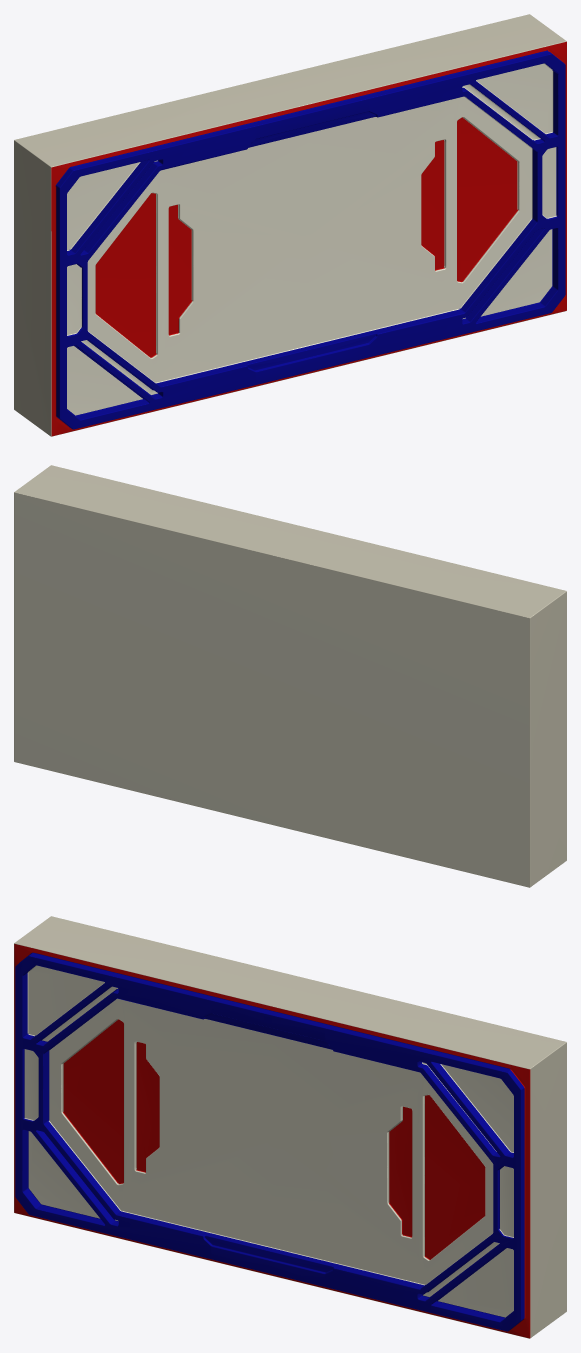
The model's file is Scifi2_WallE3.fbx.
3 renders of one model, top to bottom at view 1: azimuth 30°, elevation 25°; view 2: azimuth 150°, elevation 25°; view 3: azimuth 330°, elevation 25°, orthographic.
Visible parts, largest first — view 1: WallPanelE3; view 2: WallPanelE3; view 3: WallPanelE3.
Boxes of the visible parts, bbox=[...] form: WallPanelE3: bbox=[14, 14, 566, 436]; WallPanelE3: bbox=[14, 465, 566, 887]; WallPanelE3: bbox=[14, 916, 566, 1338].
Bounding box in the file's own units: 800 × 400 × 110.
